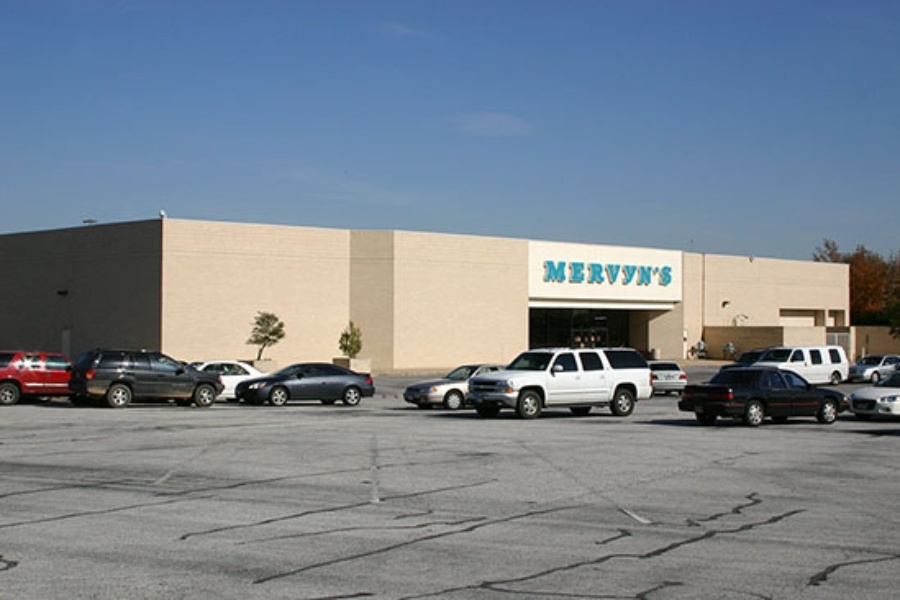text: (657, 260, 673, 286), (545, 260, 560, 286), (561, 260, 576, 286), (577, 260, 592, 286), (593, 260, 608, 286), (609, 260, 624, 286), (625, 260, 640, 286), (641, 260, 656, 286), (543, 260, 544, 286)
